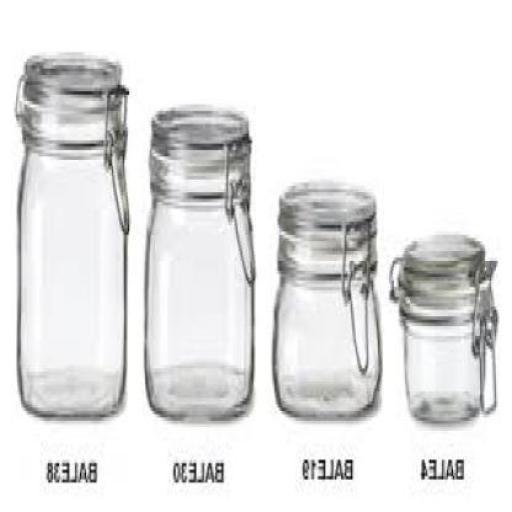glass: (19, 56, 130, 418), (146, 108, 256, 418), (276, 186, 385, 415), (392, 234, 499, 424)
